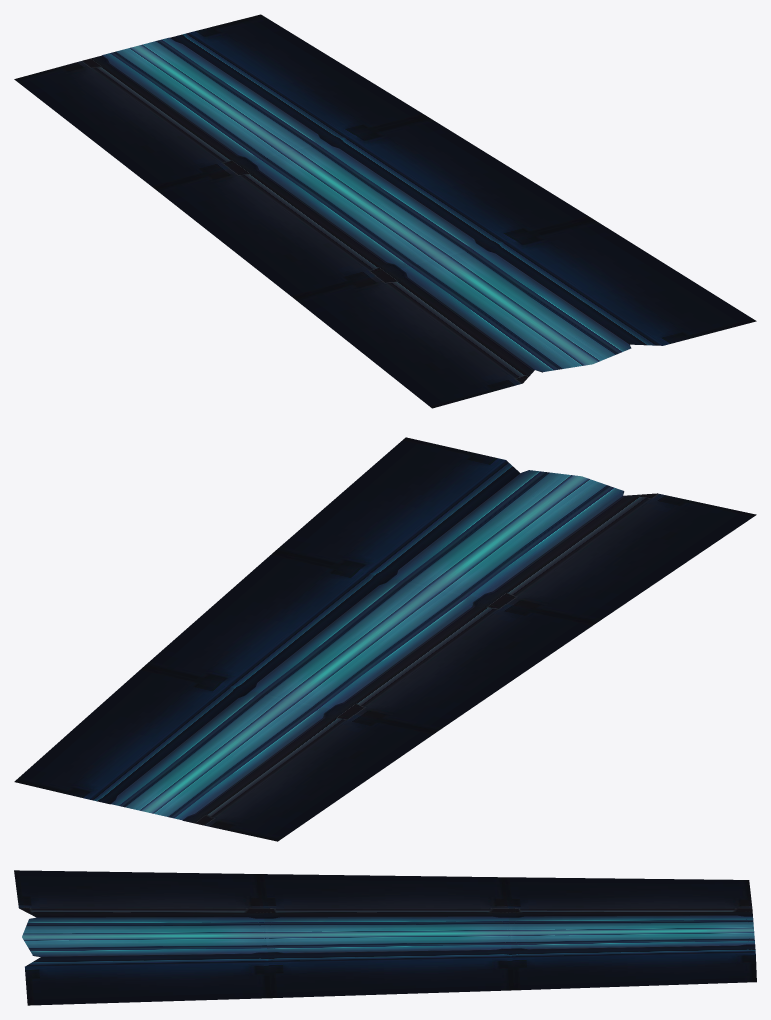
The model's file is ts_chc001_dm.FBX.
3 renders of one model, top to bottom at view 1: azimuth 30°, elevation 25°; view 2: azimuth 150°, elevation 25°; view 3: azimuth 270°, elevation 25°, orthographic. The views are drawn at different scales.
Visible parts, largest first — view 1: ts_chc001_dm; view 2: ts_chc001_dm; view 3: ts_chc001_dm.
Boxes of the visible parts, x1,y1,x2,y2 form: ts_chc001_dm: (14,14,756,408); ts_chc001_dm: (14,437,756,841); ts_chc001_dm: (14,870,756,1005).
Size of the model in its own units: 32.39 by 0.0409 by 75.24.
